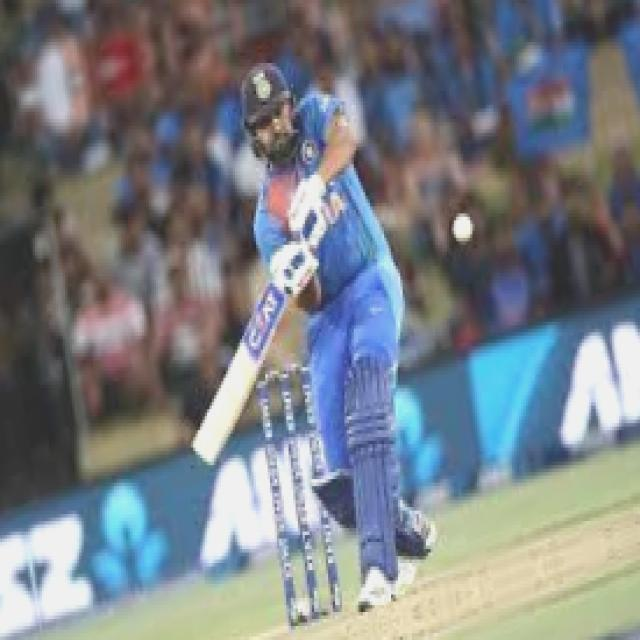toe: (191, 434, 217, 475)
